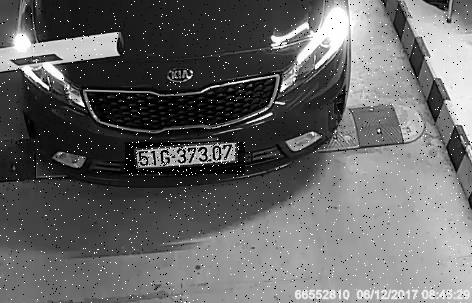License-plate: (126, 144, 246, 177)
